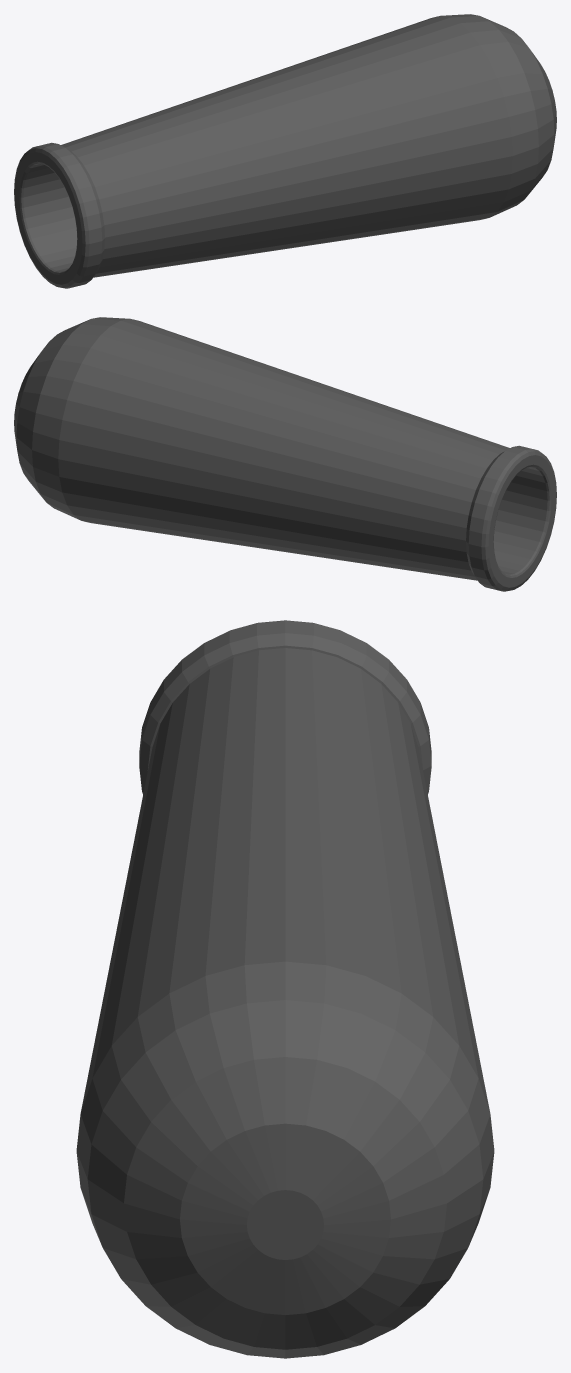
File: CanonBarrel.obj
The picture shows the model from 3 angles, top to bottom: view 1: azimuth 30°, elevation 25°; view 2: azimuth 150°, elevation 25°; view 3: azimuth 270°, elevation 25°; orthographic projection. The views are drawn at different scales.
Visible parts, largest first — view 1: CanonBarrel; view 2: CanonBarrel; view 3: CanonBarrel.
Boxes of the visible parts, bbox=[...] form: CanonBarrel: bbox=[14, 14, 556, 288]; CanonBarrel: bbox=[14, 317, 556, 591]; CanonBarrel: bbox=[76, 620, 494, 1358].
Size of the model in its own units: 2.62 by 0.9723 by 0.9723.
1 material, 1 textured.
